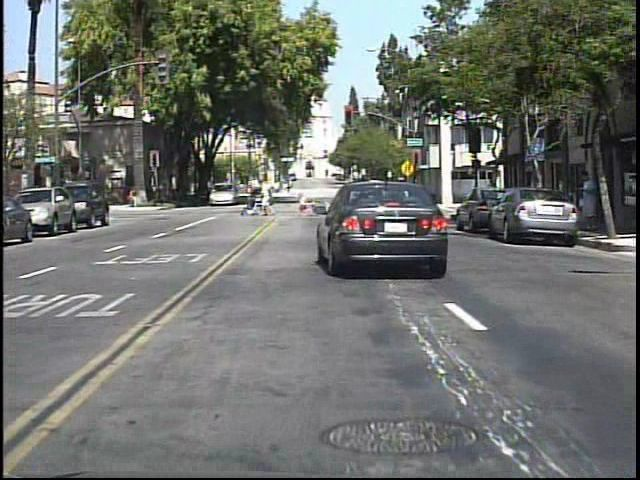person: (574, 169, 597, 236), (257, 177, 278, 216), (150, 180, 163, 208), (128, 185, 140, 211)
